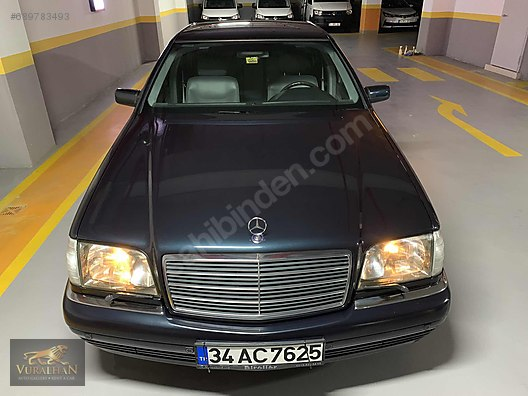m: (41, 10, 459, 377)
